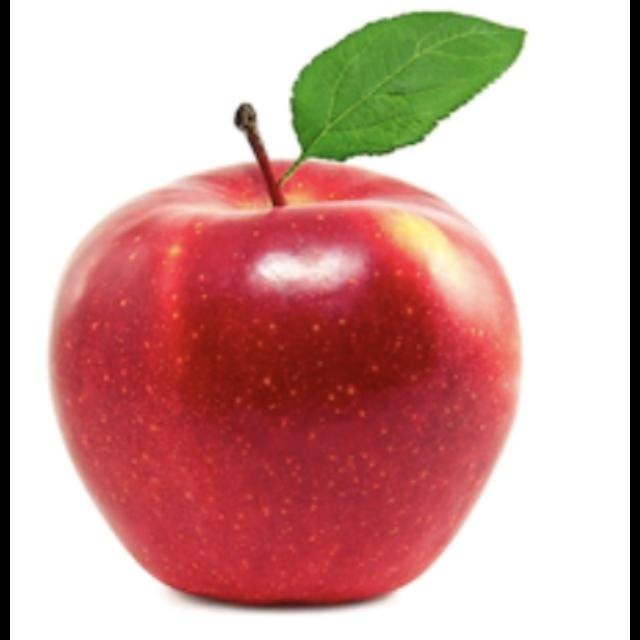Apel Segar: (48, 106, 524, 608)
